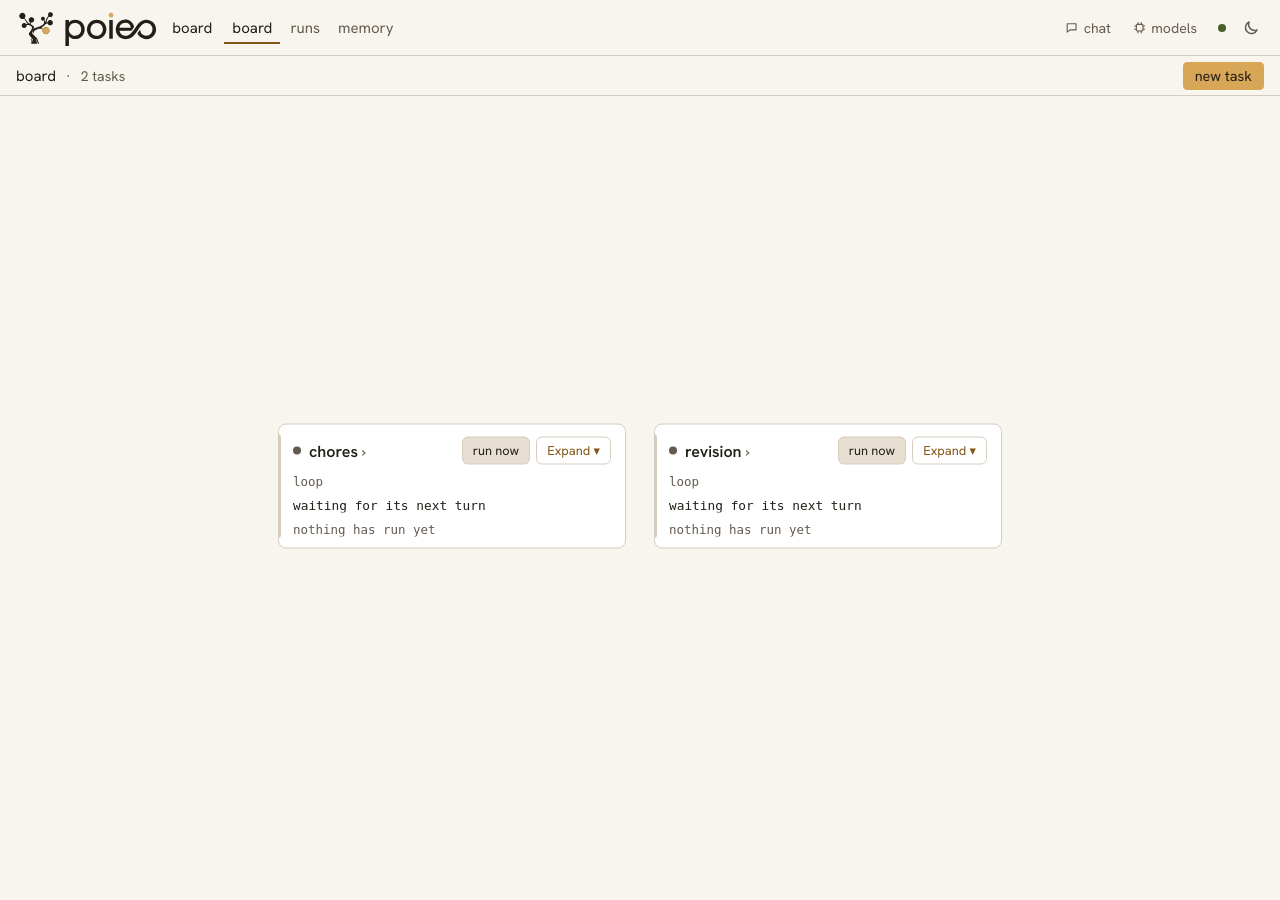
a frame for another task leaves the open drawer alone
Step 1. Click the button with class "basic-pick" showing "chores" → point(374, 450), box [293,440,456,461]
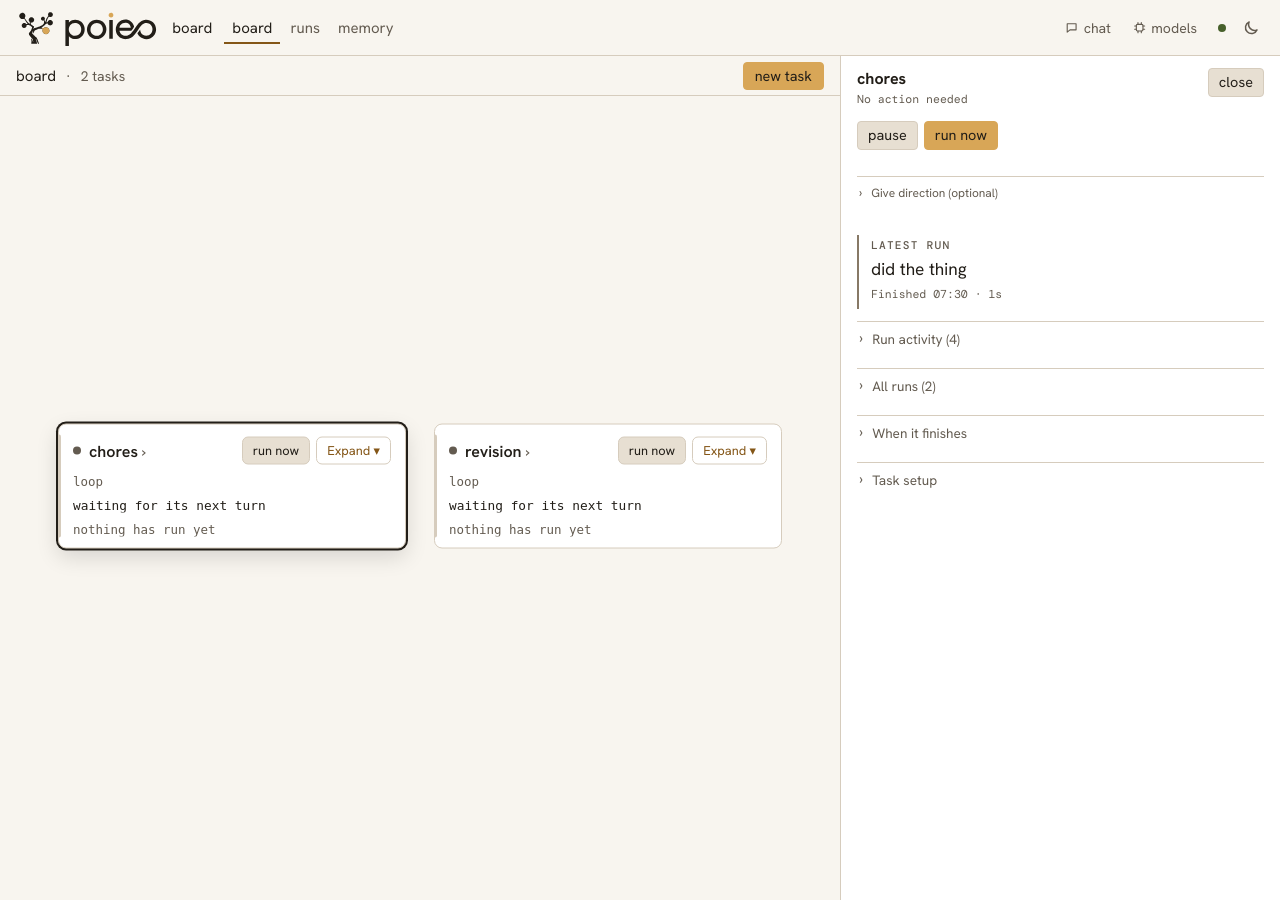
Step 2. Click the button "Run activity (4)" → point(916, 339), box [857,322,1264,356]
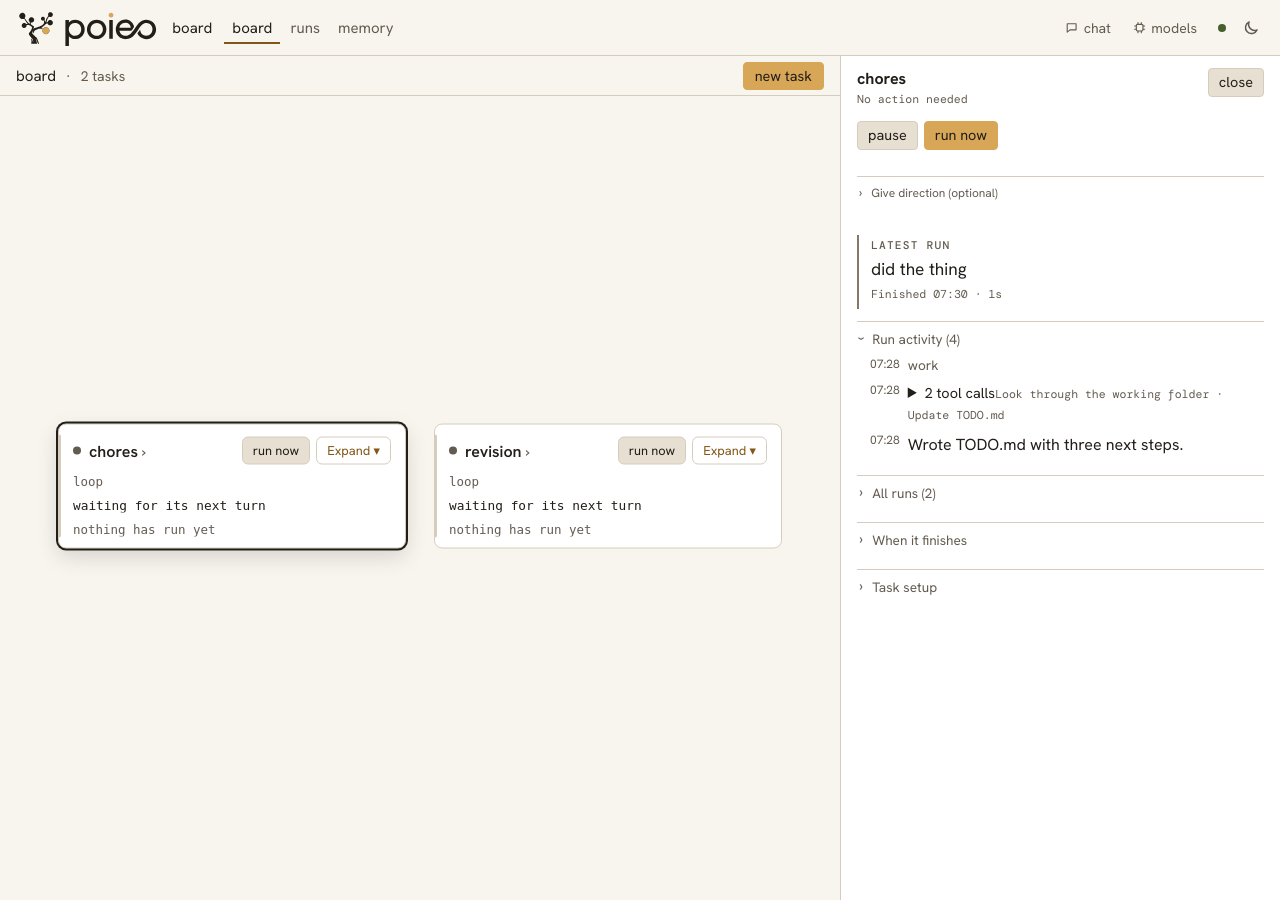
Expected: the list item with class "drawer-entry" showing "07:28 work" is shown, [870,356,938,374]
